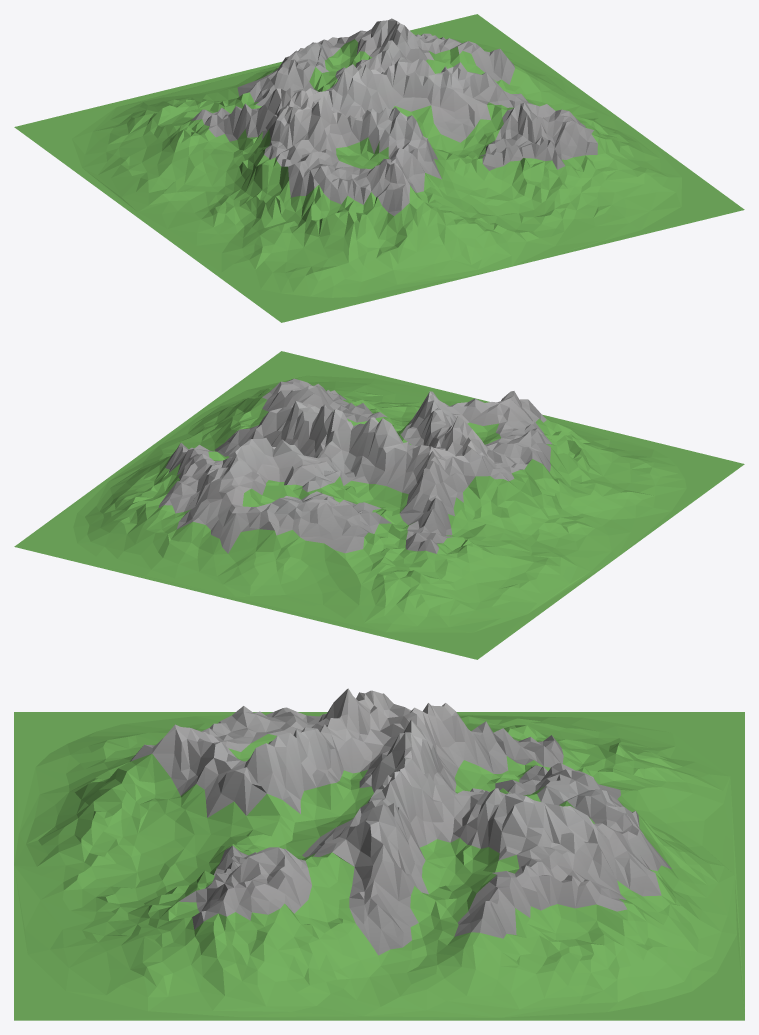
The model's file is SM_Nature_Landscape_02.fbx.
3 views of the same model, one above another, from view 1: azimuth 30°, elevation 25°; view 2: azimuth 150°, elevation 25°; view 3: azimuth 270°, elevation 25° (orthographic). The views are drawn at different scales.
Visible parts, largest first — view 1: SM_Nature_Landscape_02; view 2: SM_Nature_Landscape_02; view 3: SM_Nature_Landscape_02.
Part boxes in pixels (x1,y1,x2,y2): SM_Nature_Landscape_02: (14,14,744,322); SM_Nature_Landscape_02: (14,351,744,659); SM_Nature_Landscape_02: (14,688,744,1020).
Bounding box in the file's own units: 100 × 20.55 × 100.
